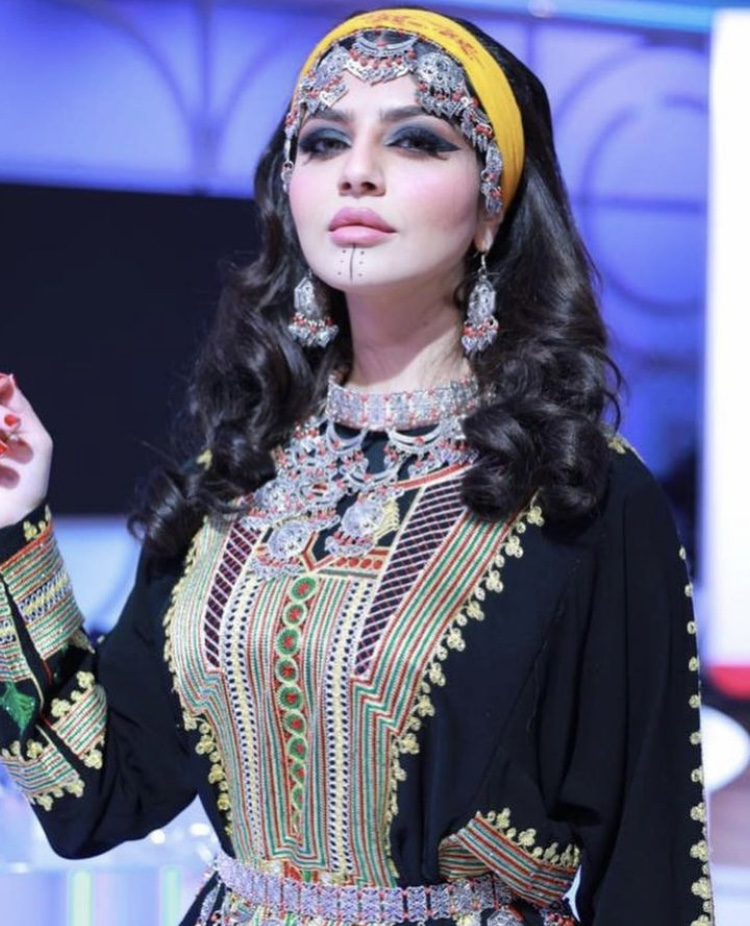Saudi_Founding_Day: (1, 9, 718, 926)
